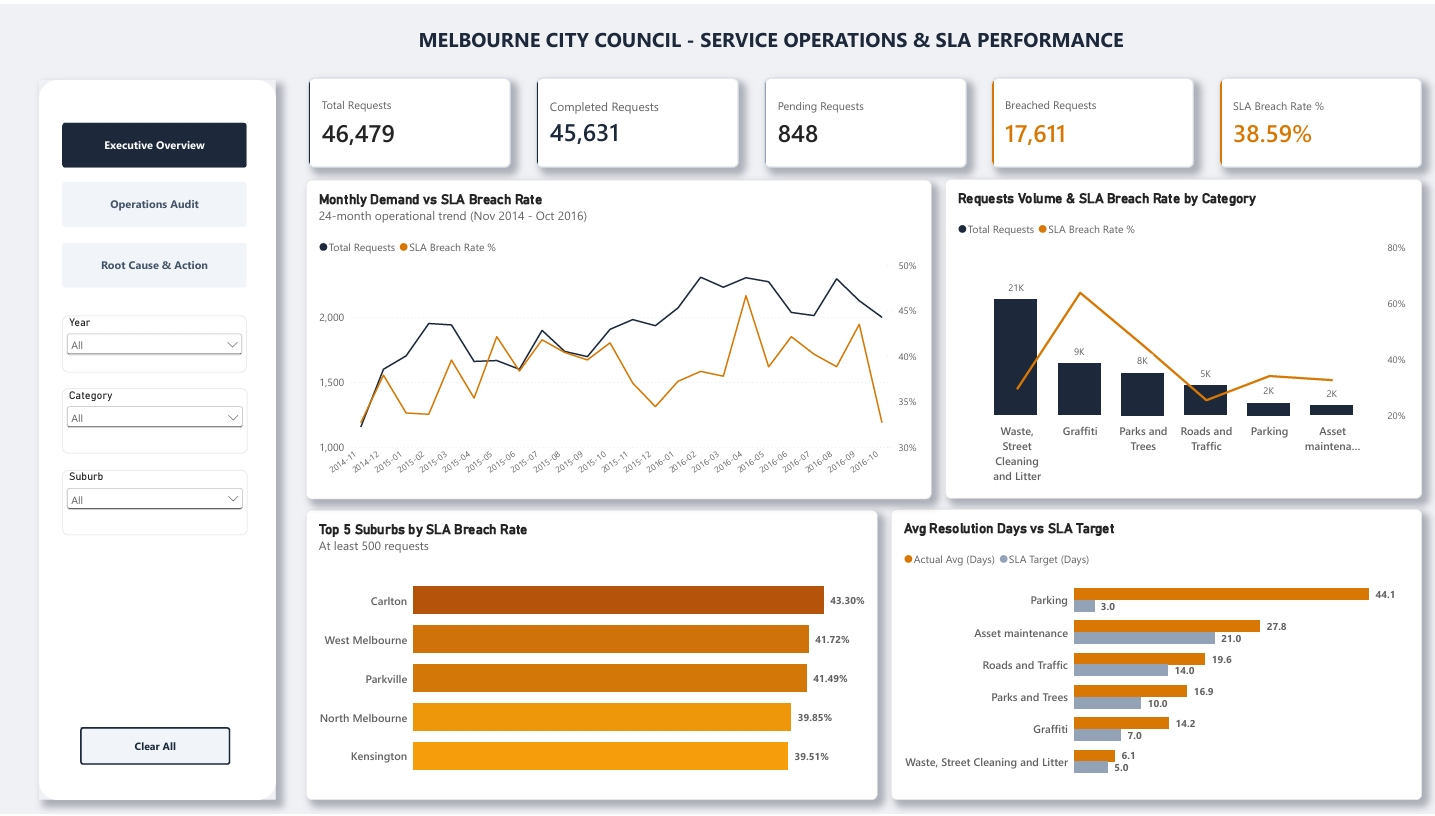

The dashboard page shown, as its layout file describes it:
{"tool":"powerbi","page":{"name":"Executive Overview","canvas":[1920,1080],"ordinal":0},"visuals":[{"type":"shape","box":[52,100,316,960],"z":0},{"type":"textbox","box":[526.9,26.9,1001.9,50],"z":1000},{"type":"slicer","fields":{"Values":["dim_date.year"]},"box":[83,414,246.2,76.2],"z":2000},{"type":"slicer","fields":{"Values":["dim_category.category"]},"box":[83,511,246.7,86.7],"z":3000},{"type":"slicer","fields":{"Values":["dim_suburb.suburb_name"]},"box":[83,620,246.7,86.7],"z":4000},{"type":"cardVisual","fields":{"Data":["_Measures.Total Requests"]},"box":[410.8,97.1,270,120],"z":5000},{"type":"cardVisual","fields":{"Data":["_Measures.Completed Requests"]},"box":[714.7,97.1,270,120],"z":6000},{"type":"cardVisual","fields":{"Data":["_Measures.Pending Requests"]},"box":[1018.6,97.1,270,120],"z":7000},{"type":"cardVisual","fields":{"Data":["_Measures.Breached Requests"]},"box":[1322.5,97.1,270,120],"z":8000},{"type":"cardVisual","fields":{"Data":["_Measures.SLA Breach Rate %"]},"box":[1626.4,97.1,270,120],"z":9000},{"type":"actionButton","box":[106.7,963.3,200,50],"z":10000},{"type":"lineClusteredColumnComboChart","title":"Requests Volume & SLA Breach Rate by Category","fields":{"Category":["dim_category.category"],"Y":["_Measures.Total Requests"],"Y2":["_Measures.SLA Breach Rate %"]},"box":[1260,232,636,426],"z":11000},{"type":"clusteredBarChart","title":"Top 5 Suburbs by SLA Breach Rate","fields":{"Category":["dim_suburb.suburb_name"],"Y":["_Measures.SLA Breach Rate %"]},"box":[407.5,672.5,762.5,387.5],"z":12000},{"type":"clusteredBarChart","title":"Avg Resolution Days vs SLA Target","fields":{"Category":["dim_category.category"],"Y":["_Measures.Avg Resolution Days","Avg(dim_category.sla_target_days)"]},"box":[1188,672,708,388],"z":13000},{"type":"lineChart","title":"Monthly Demand vs SLA Breach Rate","fields":{"Category":["dim_date.year_month"],"Y":["_Measures.Total Requests"],"Y2":["_Measures.SLA Breach Rate %"]},"box":[407.5,232.5,834,426],"z":14000},{"type":"actionButton","box":[83,156.7,246,60],"z":15000},{"type":"actionButton","box":[83,236,246,60],"z":16000},{"type":"actionButton","box":[83,317,246,60],"z":16001}]}

Visuals, with their boxes in screenshot pixels (x1, y1, x2, y2), scaled from the page's 1920x1080 canvas onto the 1435x816 screenshot:
shape: bbox(39, 76, 275, 801)
textbox: bbox(394, 20, 1143, 58)
slicer - dim_date.year: bbox(62, 313, 246, 370)
slicer - dim_category.category: bbox(62, 386, 246, 452)
slicer - dim_suburb.suburb_name: bbox(62, 468, 246, 534)
cardVisual - _Measures.Total Requests: bbox(307, 73, 509, 164)
cardVisual - _Measures.Completed Requests: bbox(534, 73, 736, 164)
cardVisual - _Measures.Pending Requests: bbox(761, 73, 963, 164)
cardVisual - _Measures.Breached Requests: bbox(988, 73, 1190, 164)
cardVisual - _Measures.SLA Breach Rate %: bbox(1216, 73, 1417, 164)
actionButton: bbox(80, 728, 229, 766)
"Requests Volume & SLA Breach Rate by Category" lineClusteredColumnComboChart: bbox(942, 175, 1417, 497)
"Top 5 Suburbs by SLA Breach Rate" clusteredBarChart: bbox(305, 508, 874, 801)
"Avg Resolution Days vs SLA Target" clusteredBarChart: bbox(888, 508, 1417, 801)
"Monthly Demand vs SLA Breach Rate" lineChart: bbox(305, 176, 928, 498)
actionButton: bbox(62, 118, 246, 164)
actionButton: bbox(62, 178, 246, 224)
actionButton: bbox(62, 240, 246, 285)
